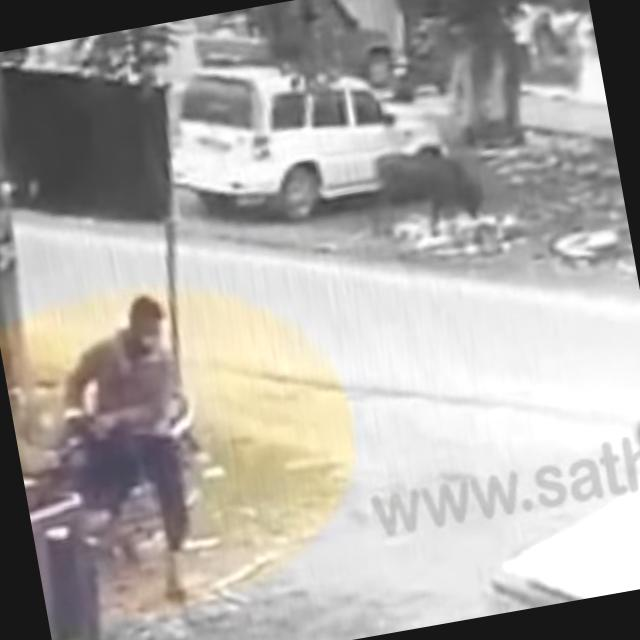person: (31, 287, 228, 620)
